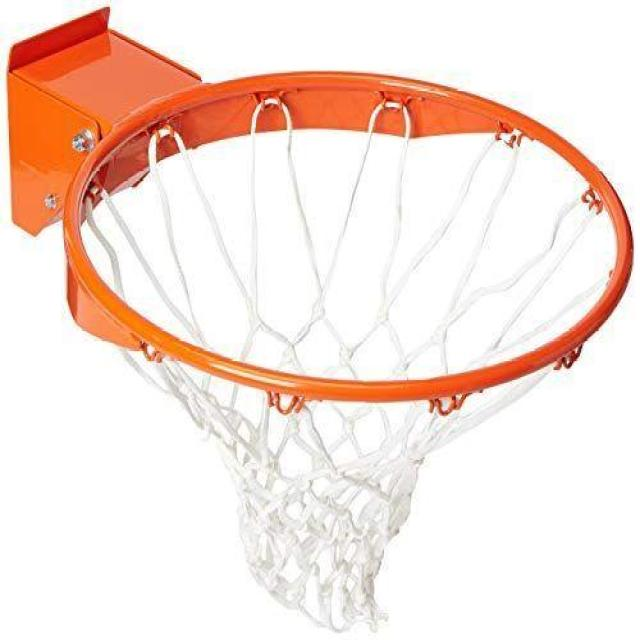hoop: (81, 34, 605, 573)
